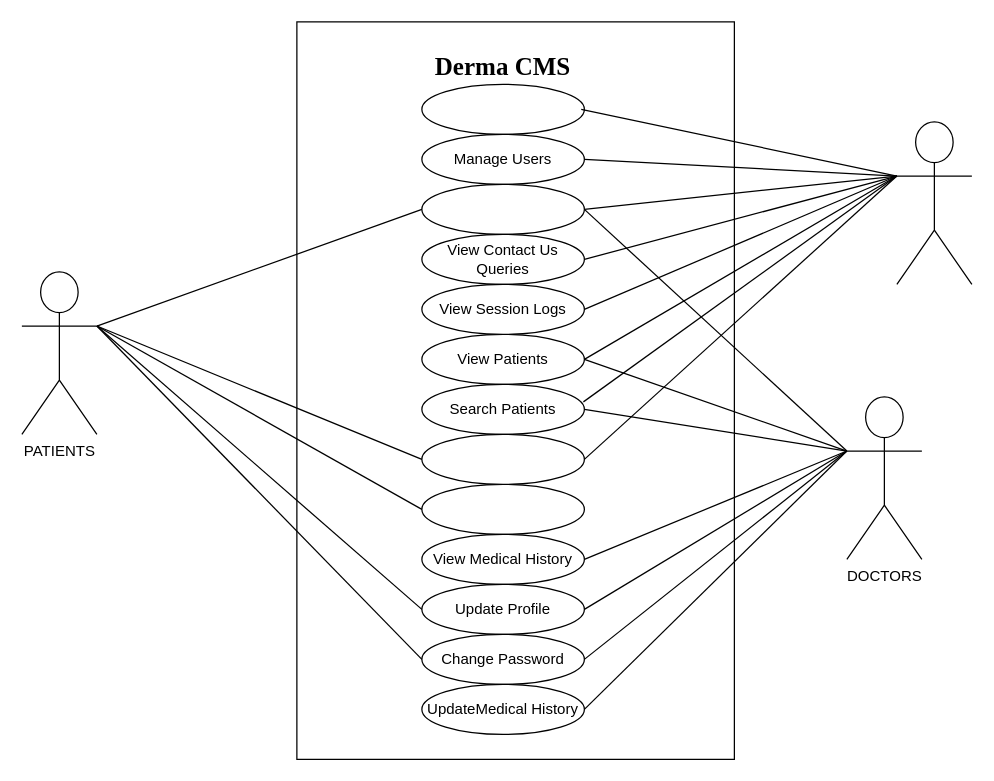
The diagram is 994 pixels wide and 781 high, and some of its shapes have lost their labels. Here are the shapes that lost their labels. From the top down, the box of each, then its label:
(421, 83, 584, 134): Manage Doctors
(421, 183, 584, 234): View Appointment History
(896, 121, 972, 284): ADMIN
(421, 433, 584, 484): View DashBoard
(421, 483, 584, 534): Book Appointment
